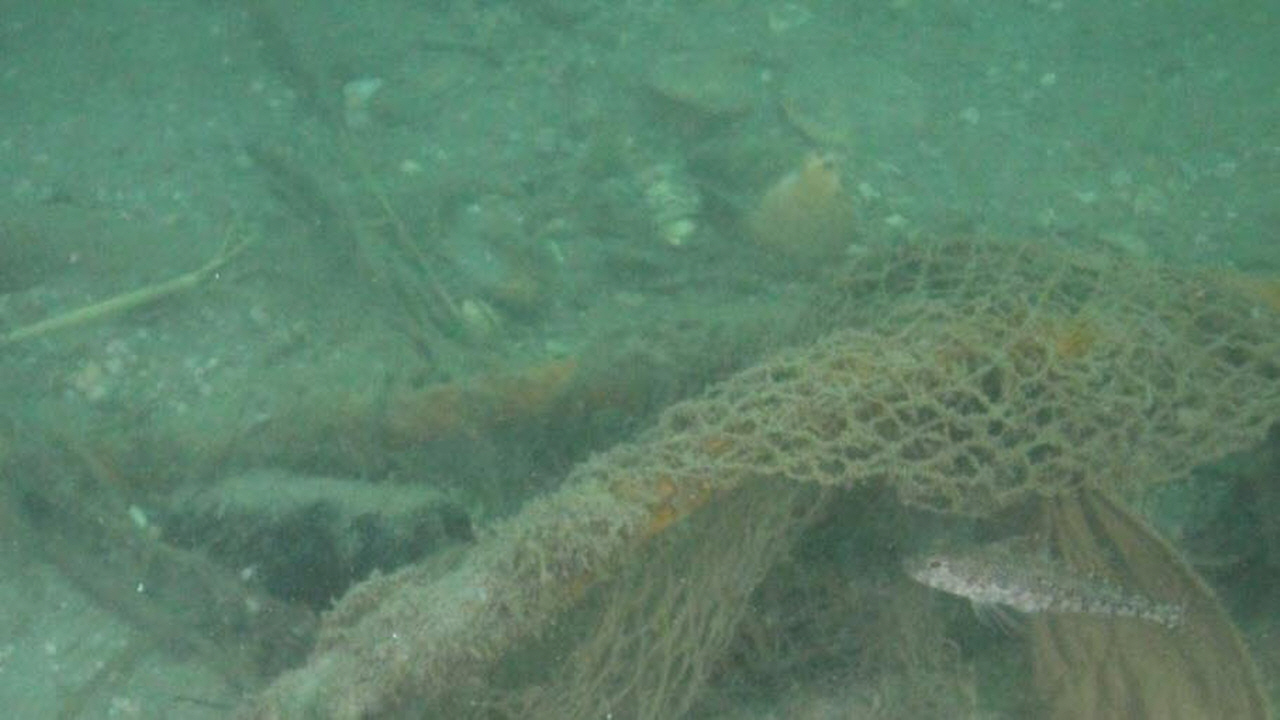fish net: (479, 231, 1280, 720)
